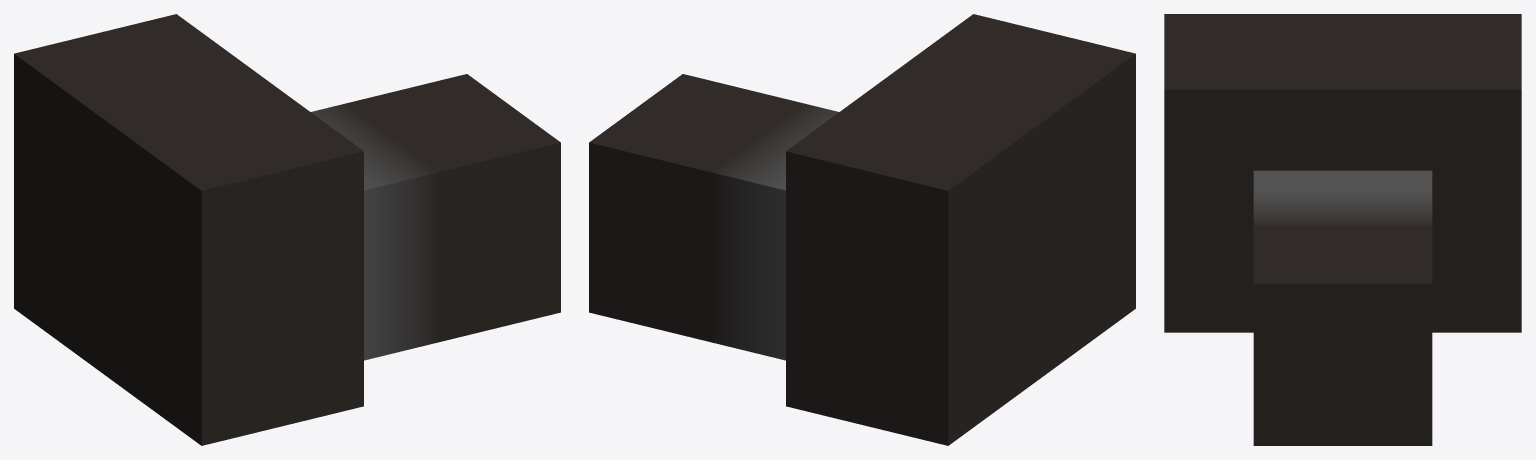
Rendered from necromancer_armL_2.fbx.
3 renders of one model, left to right at view 1: azimuth 30°, elevation 25°; view 2: azimuth 150°, elevation 25°; view 3: azimuth 270°, elevation 25°, orthographic. The views are drawn at different scales.
Parts seen in each view (by area): view 1: necromancer_armL_2; view 2: necromancer_armL_2; view 3: necromancer_armL_2.
Part boxes in pixels (left/top/right/bottom): necromancer_armL_2: left=14, top=14, right=560, bottom=445; necromancer_armL_2: left=589, top=14, right=1135, bottom=445; necromancer_armL_2: left=1164, top=14, right=1521, bottom=445.
Size of the model in its own units: 5 by 3 by 4.
Materials: 1 (1 with a texture image).
